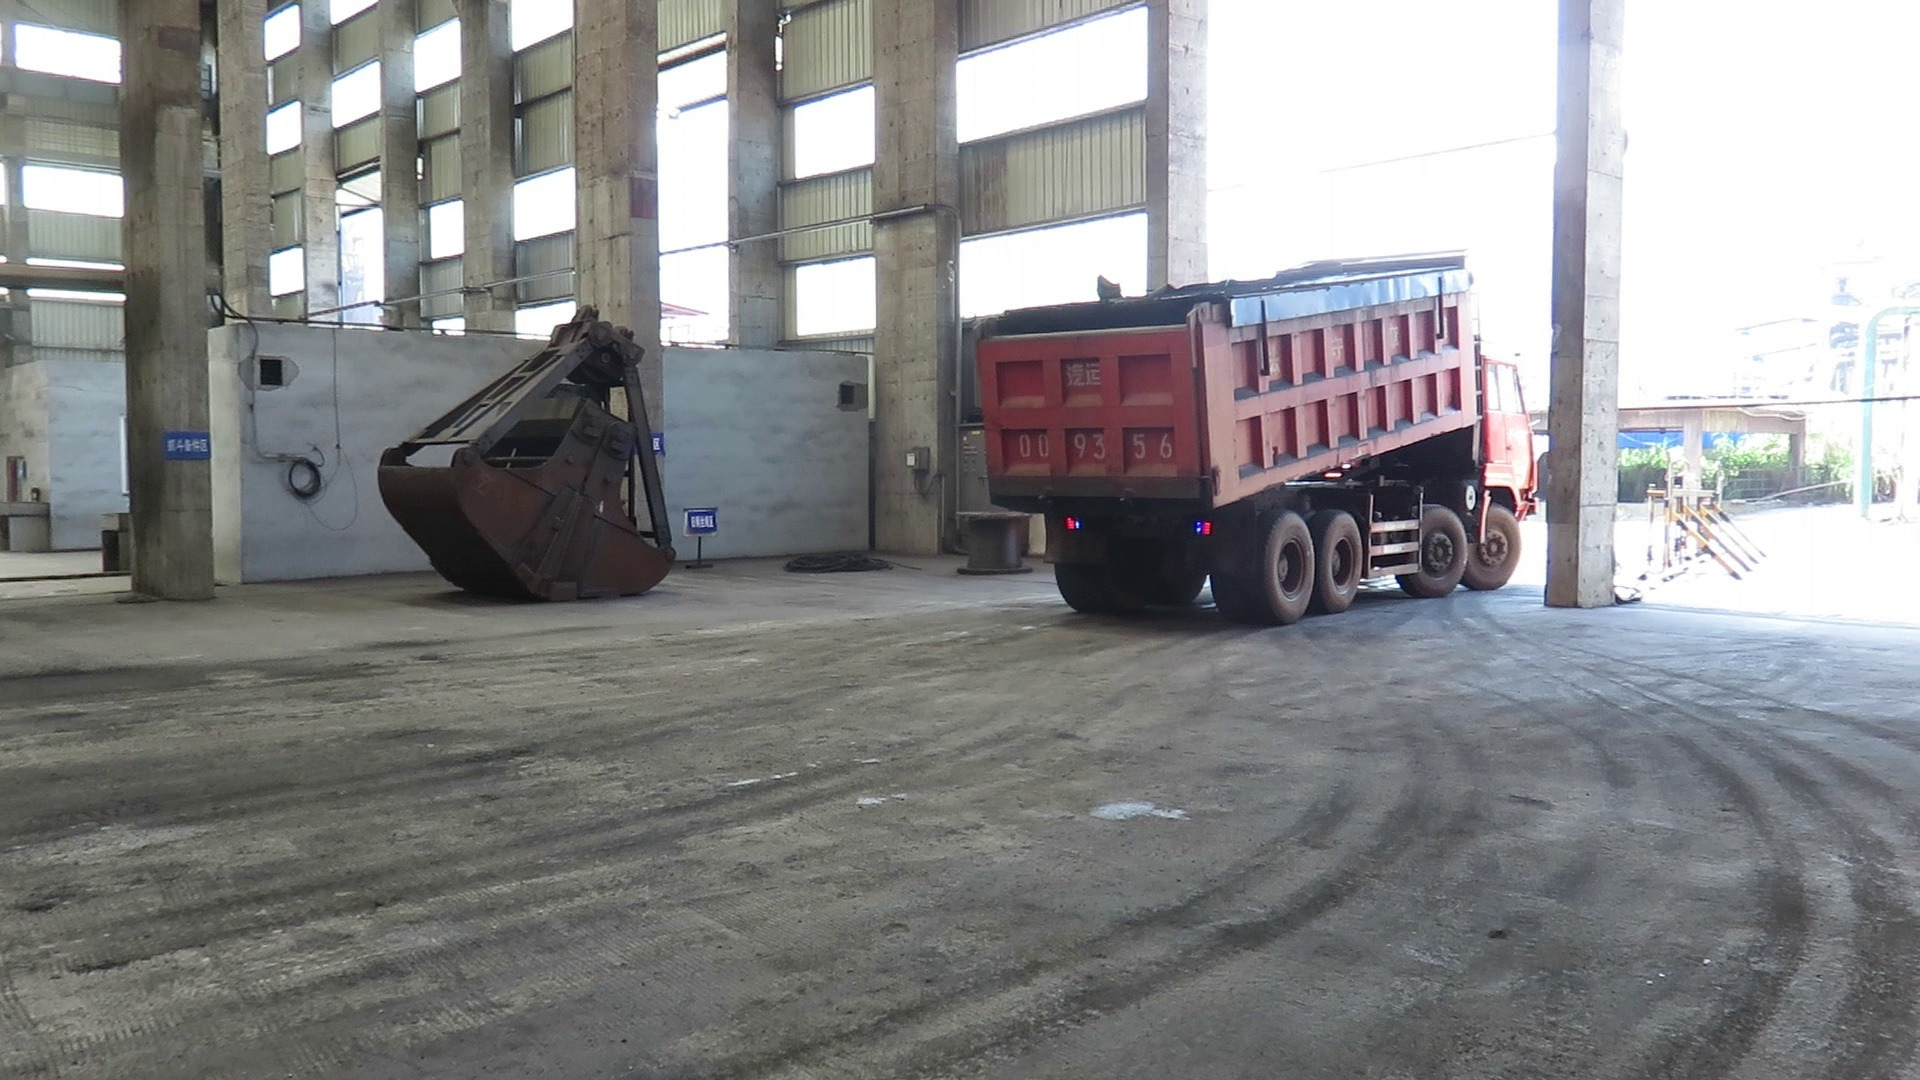grab: (360, 302, 680, 607)
truck: (951, 243, 1544, 626)
